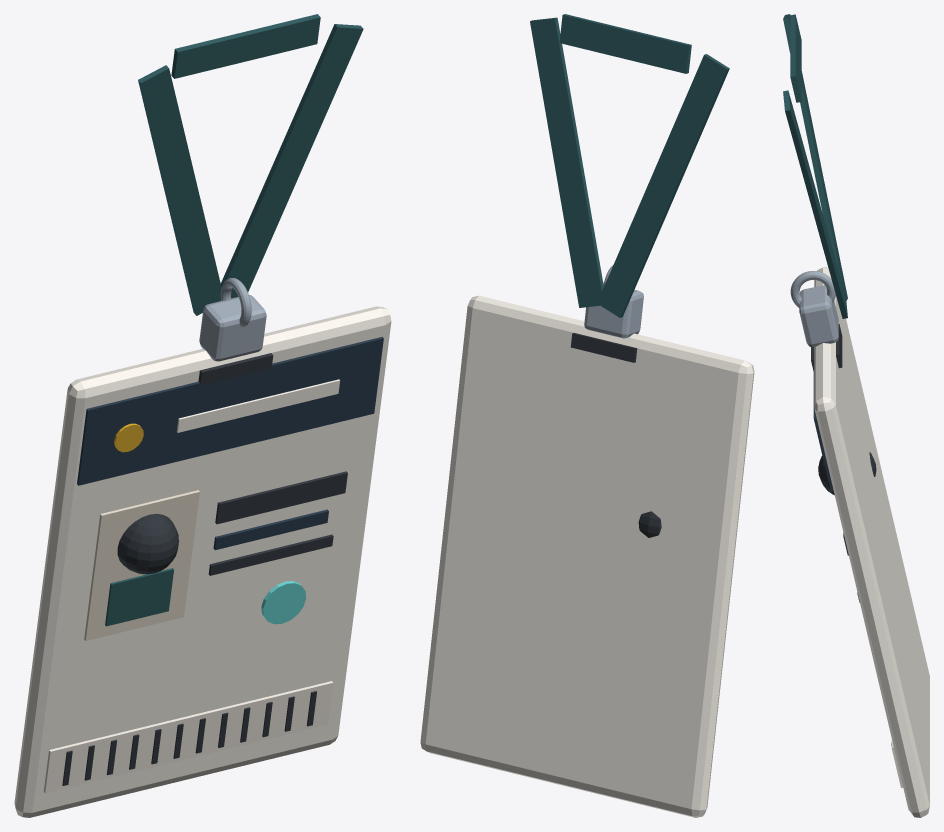
File: Collectible_StudentID.glb
The picture shows the model from 3 angles, left to right: view 1: azimuth 30°, elevation 25°; view 2: azimuth 150°, elevation 25°; view 3: azimuth 270°, elevation 25°; orthographic projection. The views are drawn at different scales.
Visible parts, largest first — view 1: Collectible_StudentID; view 2: Collectible_StudentID; view 3: Collectible_StudentID.
Part boxes in pixels (<box>): Collectible_StudentID: <box>14,14,391,817</box>; Collectible_StudentID: <box>420,14,754,817</box>; Collectible_StudentID: <box>783,14,929,817</box>.
Size of the model in its own units: 0.18 by 0.428 by 0.0805.
